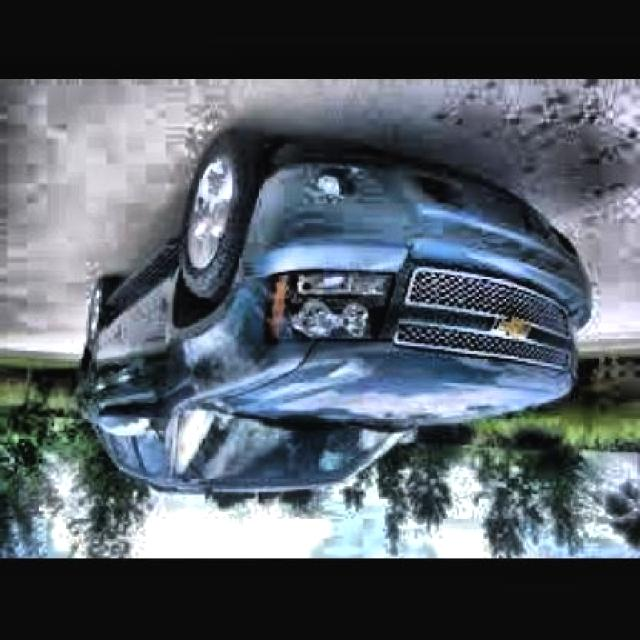black: (94, 143, 567, 518)
